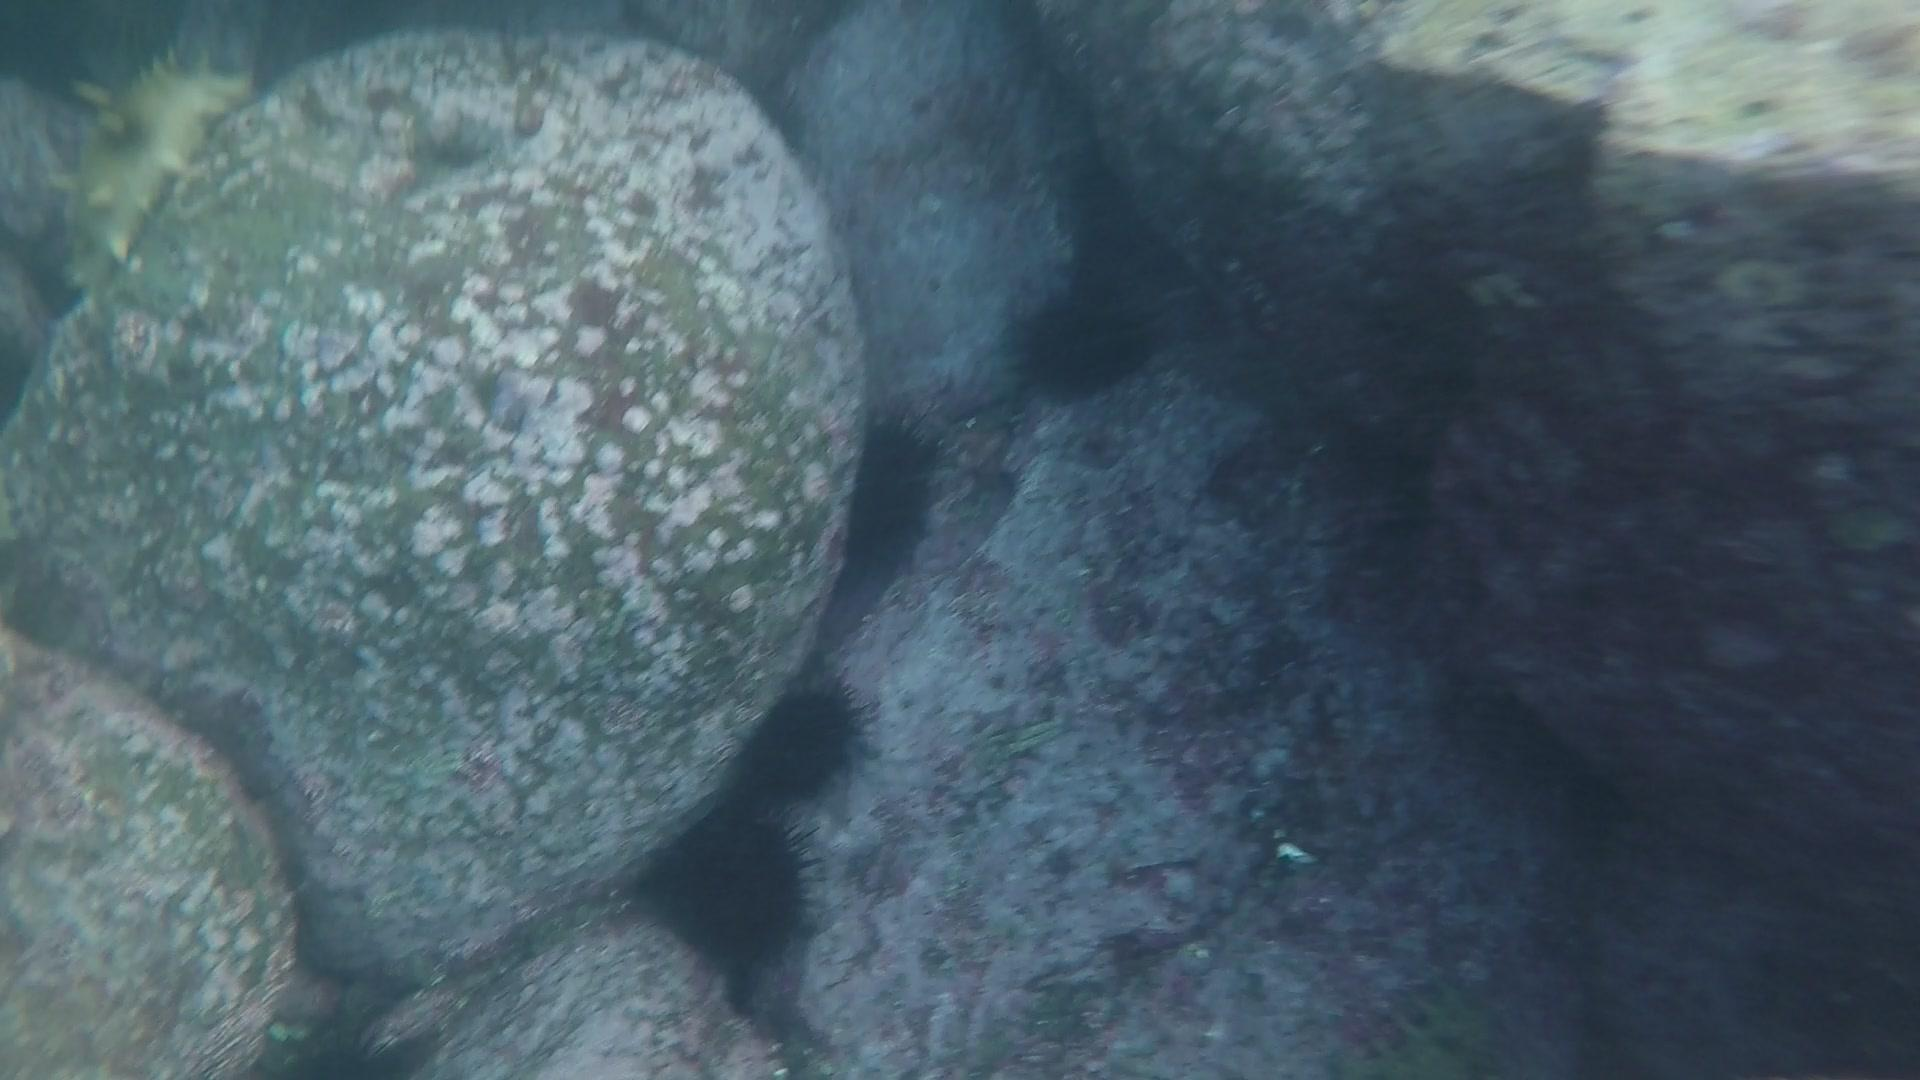echinus: (653, 796, 829, 975), (737, 666, 880, 811), (1004, 281, 1162, 411), (851, 407, 947, 585)
holothurian: (47, 36, 261, 302)
